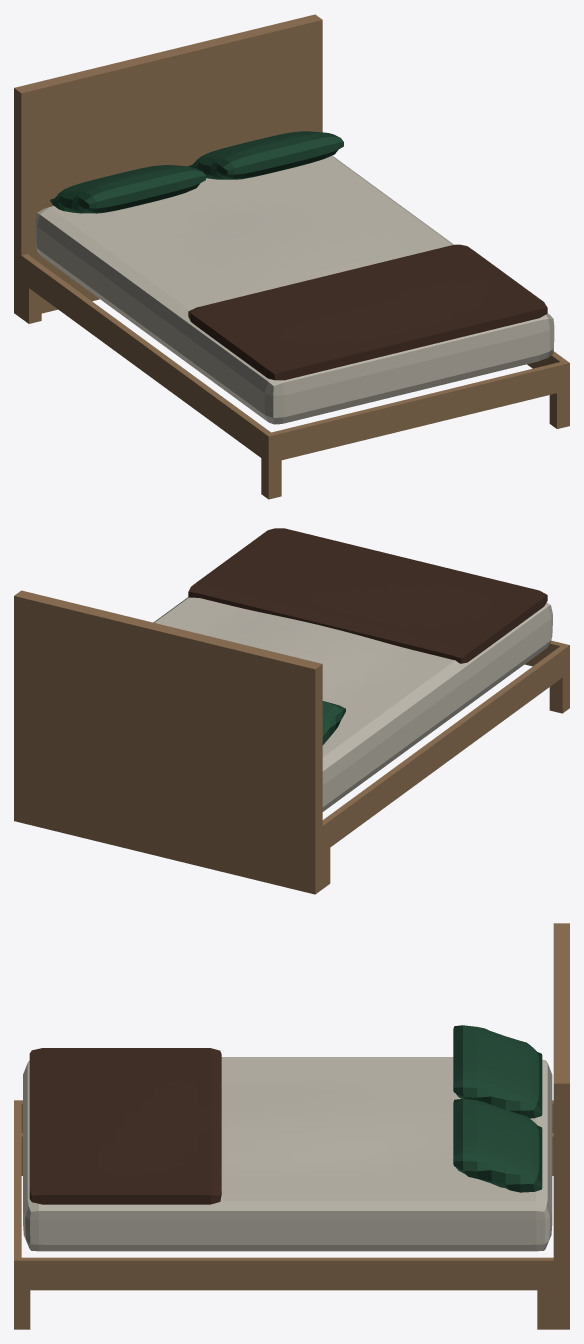
Rendered from BIB-BED-double.glb.
The picture shows the model from 3 angles, top to bottom: view 1: azimuth 30°, elevation 25°; view 2: azimuth 150°, elevation 25°; view 3: azimuth 270°, elevation 25°; orthographic projection. The views are drawn at different scales.
Visible parts, largest first — view 1: mattress:pbr, head:pbr, throw:pbr, foot:pbr, rail-l:pbr, pillow-l:pbr, pillow-r:pbr, leg-fl:pbr, leg-fr:pbr, leg-hl:pbr; view 2: head:pbr, throw:pbr, mattress:pbr, rail-l:pbr, leg-fl:pbr, pillow-l:pbr; view 3: mattress:pbr, throw:pbr, rail-r:pbr, head:pbr, pillow-r:pbr, pillow-l:pbr, foot:pbr, leg-hr:pbr, leg-fr:pbr.
Part boxes in pixels (x1=…): mattress:pbr: x1=35, y1=155, x2=554, y2=424; head:pbr: x1=14, y1=14, x2=322, y2=317; throw:pbr: x1=188, y1=244, x2=547, y2=380; foot:pbr: x1=271, y1=362, x2=563, y2=461; rail-l:pbr: x1=21, y1=254, x2=274, y2=463; pillow-l:pbr: x1=50, y1=165, x2=205, y2=213; pillow-r:pbr: x1=188, y1=131, x2=343, y2=179; leg-fl:pbr: x1=261, y1=458, x2=281, y2=499; leg-fr:pbr: x1=549, y1=390, x2=569, y2=428; leg-hl:pbr: x1=21, y1=283, x2=41, y2=323; head:pbr: x1=14, y1=590, x2=322, y2=894; throw:pbr: x1=188, y1=528, x2=547, y2=663; mattress:pbr: x1=153, y1=597, x2=552, y2=811; rail-l:pbr: x1=322, y1=643, x2=569, y2=852; leg-fl:pbr: x1=549, y1=672, x2=569, y2=713; pillow-l:pbr: x1=322, y1=701, x2=345, y2=745; mattress:pbr: x1=23, y1=1057, x2=552, y2=1251; throw:pbr: x1=29, y1=1048, x2=221, y2=1204; rail-r:pbr: x1=14, y1=1257, x2=553, y2=1290; head:pbr: x1=553, y1=923, x2=569, y2=1329; pillow-r:pbr: x1=453, y1=1099, x2=542, y2=1192; pillow-l:pbr: x1=453, y1=1025, x2=542, y2=1118; foot:pbr: x1=14, y1=1103, x2=21, y2=1257; leg-hr:pbr: x1=537, y1=1290, x2=553, y2=1329; leg-fr:pbr: x1=14, y1=1290, x2=30, y2=1329.
Size of the model in its own units: 1.4 by 1 by 2.05.
